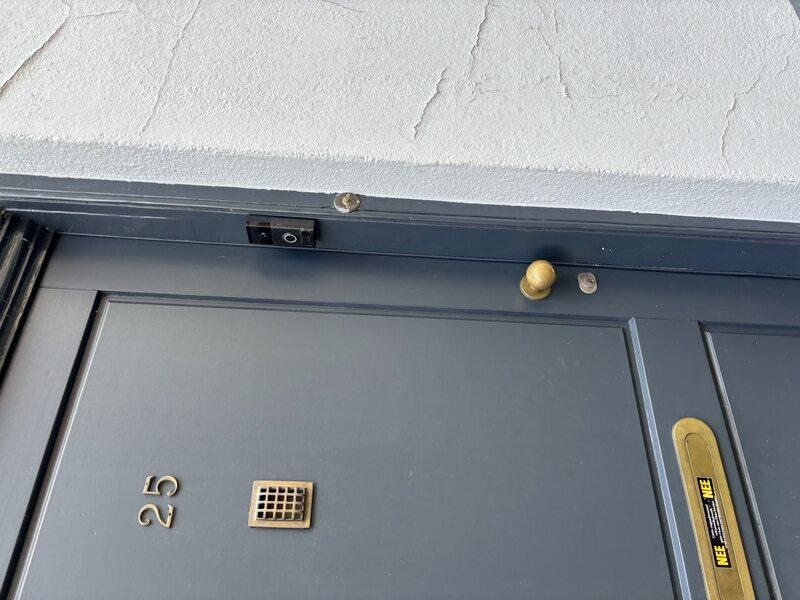doorbell: (346, 236, 394, 316)
